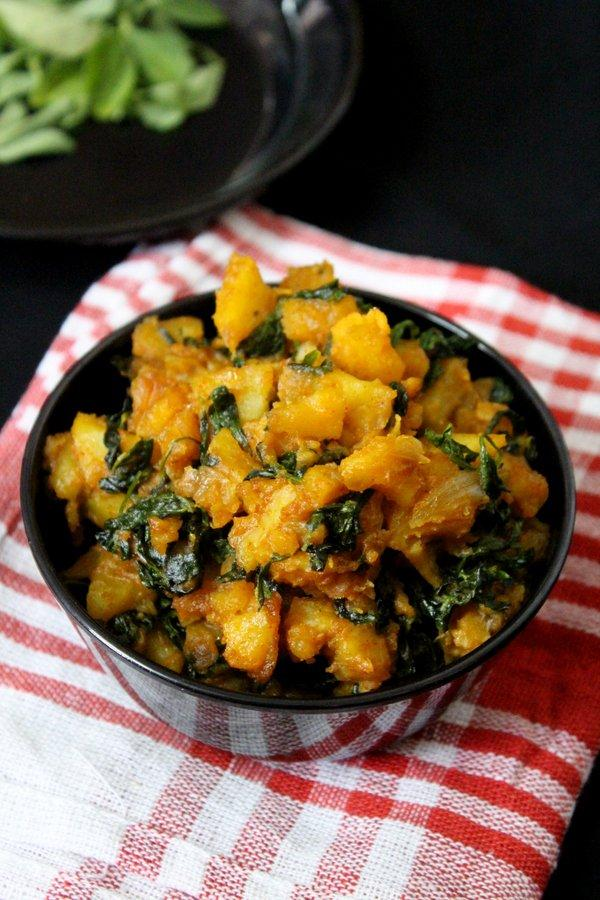Aloo Methi: (43, 280, 578, 760)
